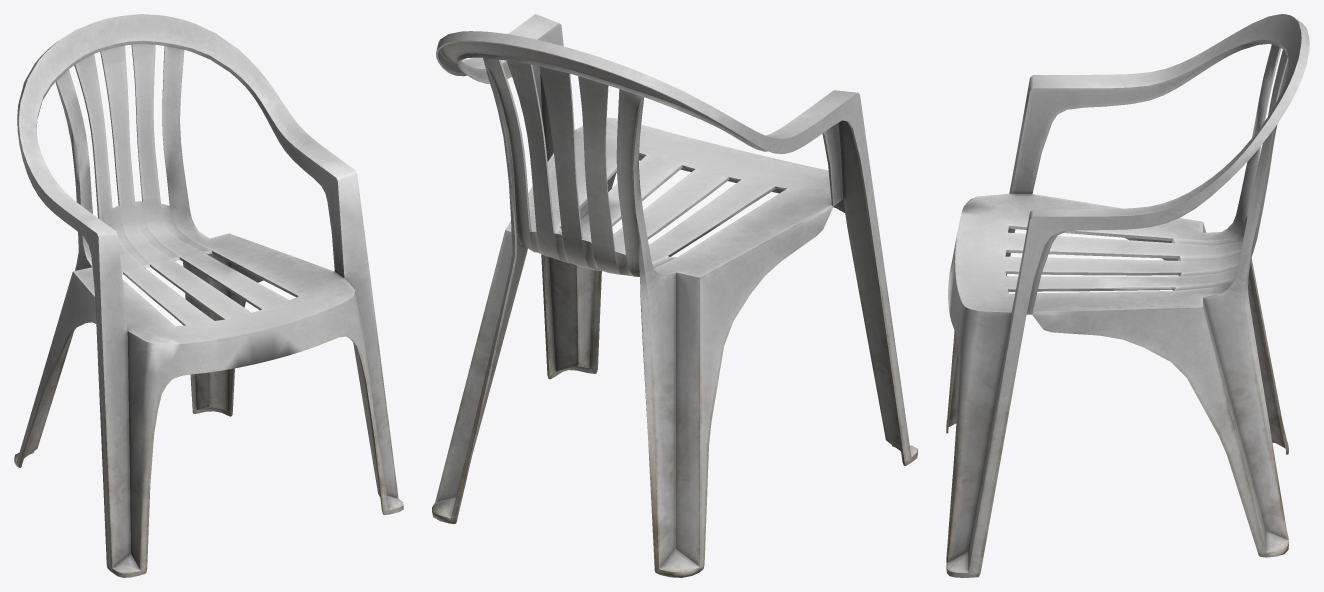
File: plastic_monobloc_chair_01.fbx
The picture shows the model from 3 angles, left to right: view 1: azimuth 30°, elevation 25°; view 2: azimuth 150°, elevation 25°; view 3: azimuth 270°, elevation 25°; orthographic projection. The views are drawn at different scales.
Visible parts, largest first — view 1: plastic_monobloc_chair_01_LOD0; view 2: plastic_monobloc_chair_01_LOD0; view 3: plastic_monobloc_chair_01_LOD0.
Boxes of the visible parts, <box> form: plastic_monobloc_chair_01_LOD0: <box>14,14,403,577</box>; plastic_monobloc_chair_01_LOD0: <box>432,14,917,577</box>; plastic_monobloc_chair_01_LOD0: <box>946,14,1309,577</box>.
Size of what is drawn, in the model's own units: 64.19 by 87.98 by 62.76.
Materials: 1 (1 with a texture image).
